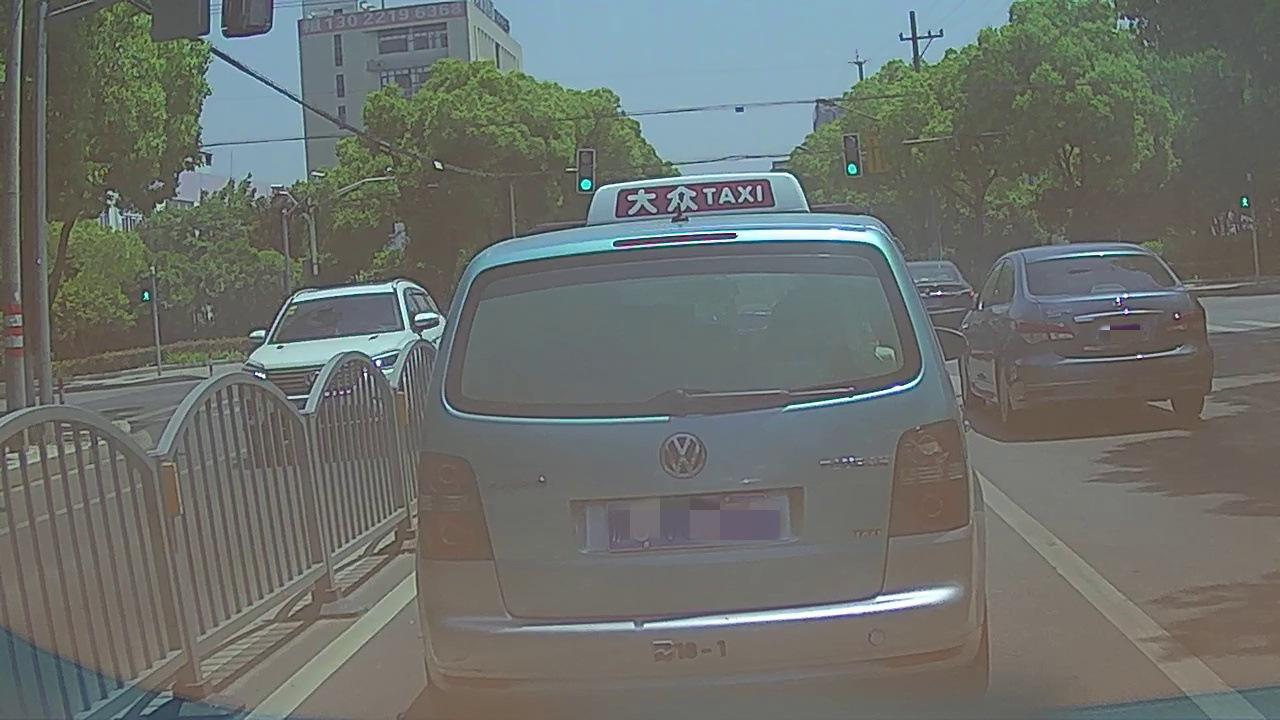traffic_light: (579, 150, 594, 191), (845, 137, 860, 175)
